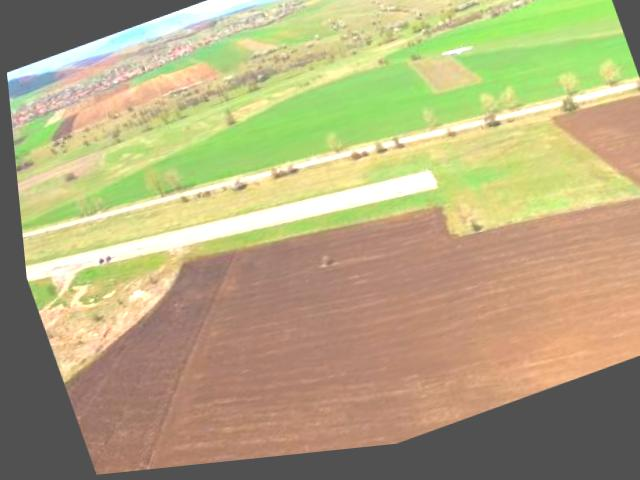uav: (433, 40, 478, 78)
